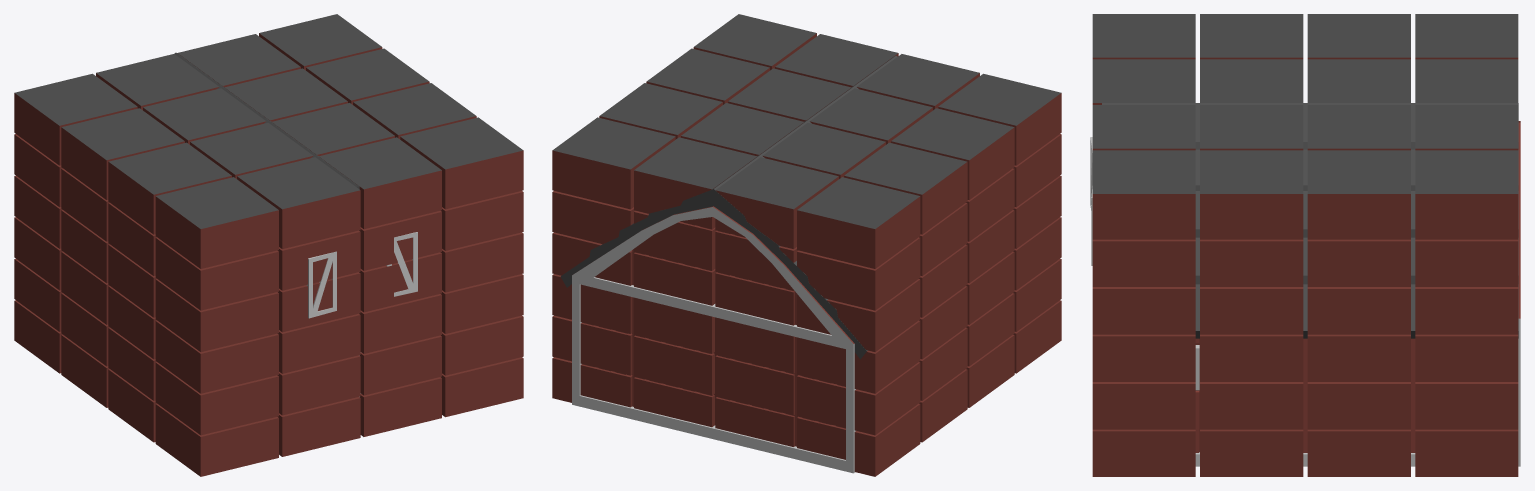
Rendered from Barn_destructible.gltf.
The picture shows the model from 3 angles, left to right: view 1: azimuth 30°, elevation 25°; view 2: azimuth 150°, elevation 25°; view 3: azimuth 270°, elevation 25°; orthographic projection. The views are drawn at different scales.
Visible parts, largest first — view 1: block_f5_r3_c0, block_f5_r3_c1, block_f5_r3_c3, block_f5_r3_c2, block_f5_r2_c0, block_f5_r0_c0, block_f5_r1_c0, block_f1_r3_c0, block_f2_r3_c0, block_f4_r3_c0, block_f3_r3_c0, block_f0_r3_c0 (+39 smaller); view 2: block_f5_r0_c0, block_f5_r0_c1, block_f5_r0_c3, block_f5_r0_c2, block_f5_r1_c0, block_f5_r3_c0, block_f5_r2_c0, block_f0_r0_c0, block_f3_r0_c0, block_f4_r0_c0, block_f1_r0_c0, block_f2_r0_c0 (+39 smaller); view 3: block_f5_r0_c3, block_f5_r1_c3, block_f5_r2_c3, block_f5_r3_c3, block_f5_r1_c2, block_f5_r2_c2, block_f5_r0_c2, block_f3_r0_c3, block_f3_r1_c3, block_f3_r2_c3, block_f4_r1_c3, block_f4_r2_c3 (+24 smaller).
Part boxes in pixels (x1,y1,x2,y2): block_f5_r3_c0: [155, 177, 278, 268]; block_f5_r3_c1: [237, 155, 360, 248]; block_f5_r3_c3: [400, 117, 523, 209]; block_f5_r3_c2: [317, 137, 441, 229]; block_f5_r2_c0: [108, 142, 231, 234]; block_f5_r0_c0: [14, 73, 137, 165]; block_f5_r1_c0: [61, 108, 184, 199]; block_f1_r3_c0: [155, 362, 278, 435]; block_f2_r3_c0: [155, 320, 278, 393]; block_f4_r3_c0: [155, 237, 278, 310]; block_f3_r3_c0: [155, 279, 278, 351]; block_f0_r3_c0: [155, 403, 278, 476]; block_f5_r0_c0: [797, 177, 920, 268]; block_f5_r0_c1: [713, 155, 838, 248]; block_f5_r0_c3: [552, 117, 675, 209]; block_f5_r0_c2: [634, 137, 758, 229]; block_f5_r1_c0: [844, 142, 967, 234]; block_f5_r3_c0: [938, 73, 1061, 165]; block_f5_r2_c0: [891, 108, 1014, 199]; block_f0_r0_c0: [794, 403, 920, 476]; block_f3_r0_c0: [794, 279, 920, 351]; block_f4_r0_c0: [794, 237, 920, 310]; block_f1_r0_c0: [796, 362, 920, 435]; block_f2_r0_c0: [794, 320, 920, 393]; block_f5_r0_c3: [1415, 150, 1518, 239]; block_f5_r1_c3: [1307, 150, 1410, 239]; block_f5_r2_c3: [1200, 150, 1303, 239]; block_f5_r3_c3: [1092, 150, 1195, 239]; block_f5_r1_c2: [1305, 103, 1412, 186]; block_f5_r2_c2: [1198, 103, 1305, 186]; block_f5_r0_c2: [1413, 103, 1520, 186]; block_f3_r0_c3: [1413, 253, 1520, 334]; block_f3_r1_c3: [1305, 260, 1412, 334]; block_f3_r2_c3: [1198, 260, 1305, 334]; block_f4_r1_c3: [1305, 212, 1412, 286]; block_f4_r2_c3: [1198, 212, 1305, 286].
Size of the model in its own units: 10.39 by 7.67 by 10.5.
